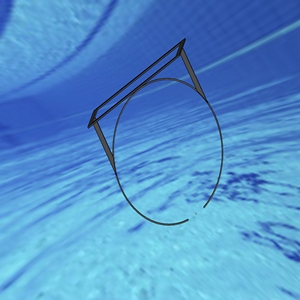circle: (85, 38, 225, 226)
